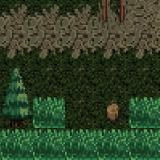Interaction: (95, 0, 131, 27)
Obstacle: (96, 97, 129, 128), (0, 97, 33, 128)
Slow: (0, 129, 160, 160), (33, 98, 66, 128), (129, 98, 160, 128)
